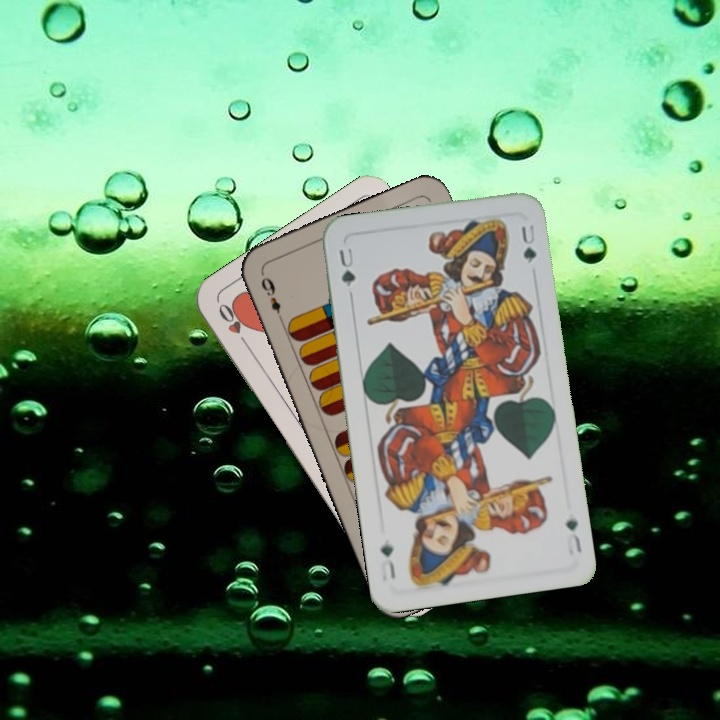E9: (257, 273, 284, 325)
GU: (334, 243, 359, 299), (562, 513, 584, 557)
HO: (214, 299, 252, 351)
